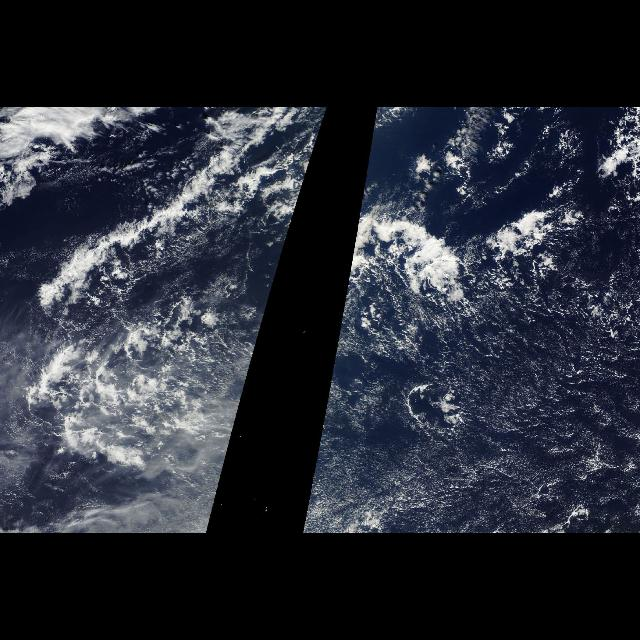Fish: (25, 110, 298, 326)
Gravel: (392, 372, 473, 442)
Sugar: (308, 300, 638, 530)
